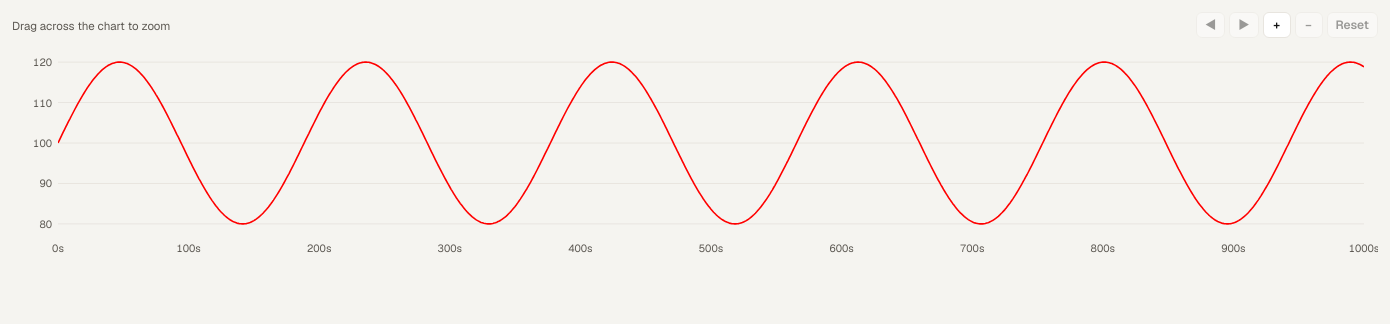
LineChart zoom and pan › zooms in, moves along, zooms out and resets with the toolbar
Expected: the button "Reset" is disabled, [1326,12,1378,38]
What coordinates should you click on to do the following:
click the button named "Zoom in"
I would click on:
 (1276, 25)
Its box is [1262,12,1290,38].
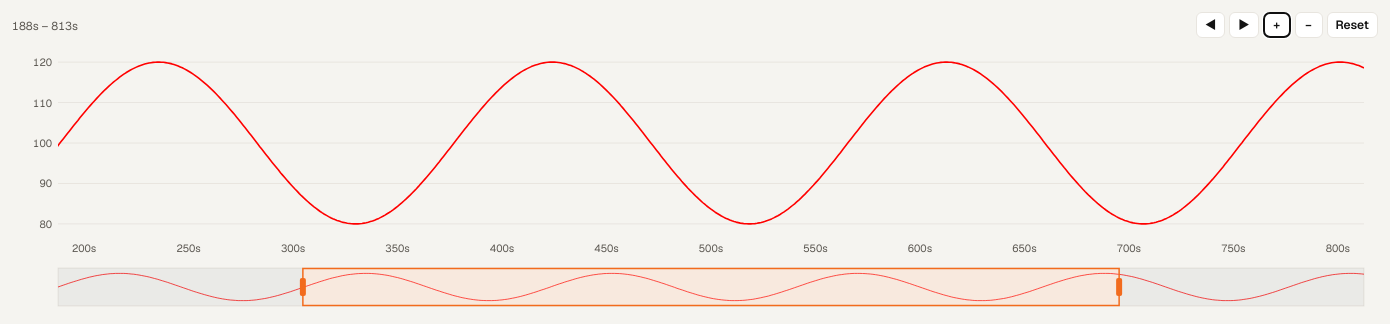
Expected: the text "188s – 813s" is shown, [12,14,78,36]
What coordinates should you click on to do the following:
click the button named "Move right"
I would click on:
 (1244, 25)
Its box is [1229,12,1259,38].
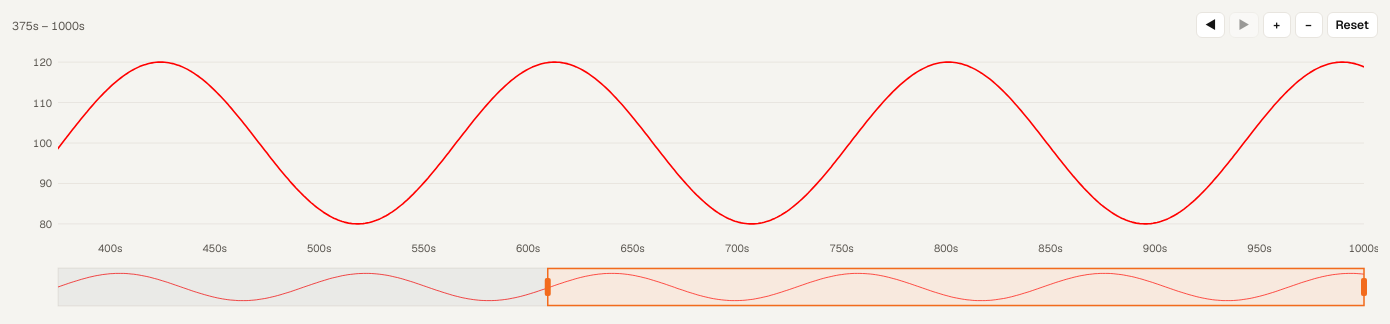
Expected: the text "375s – 1000s" is shown, [12,14,85,36]
Expected: the button named "Move right" is disabled, [1229,12,1259,38]
What coordinates should you click on to do the following:
click the button named "Move left"
I would click on:
 (1211, 25)
Its box is [1196,12,1225,38].
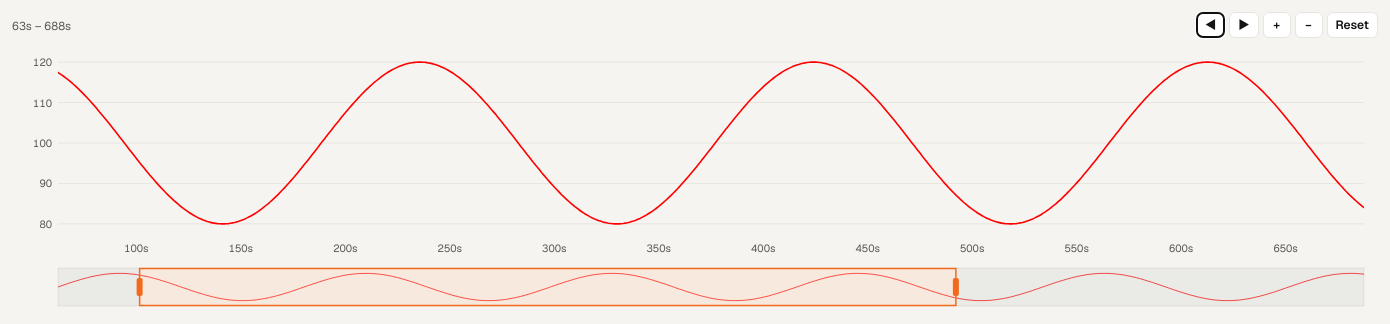
Expected: the text "63s – 688s" is shown, [12,14,71,36]
What coordinates should you click on to do the following:
click the button named "Zoom out"
I would click on:
 (1308, 25)
Its box is [1294,12,1322,38].
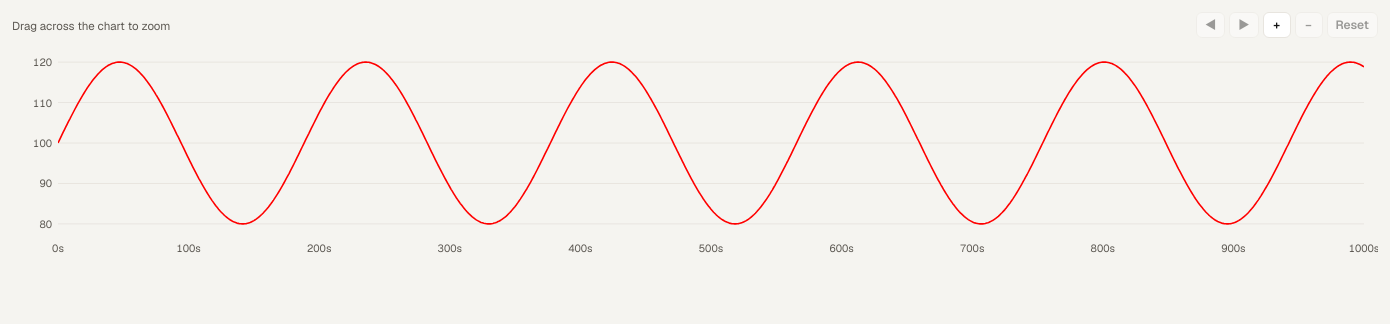
Expected: the text "Drag across the chart to zoom" is shown, [12,14,170,36]
What coordinates should you click on to do the following:
click the button named "Zoom in"
I would click on:
 (1276, 25)
Its box is [1262,12,1290,38].
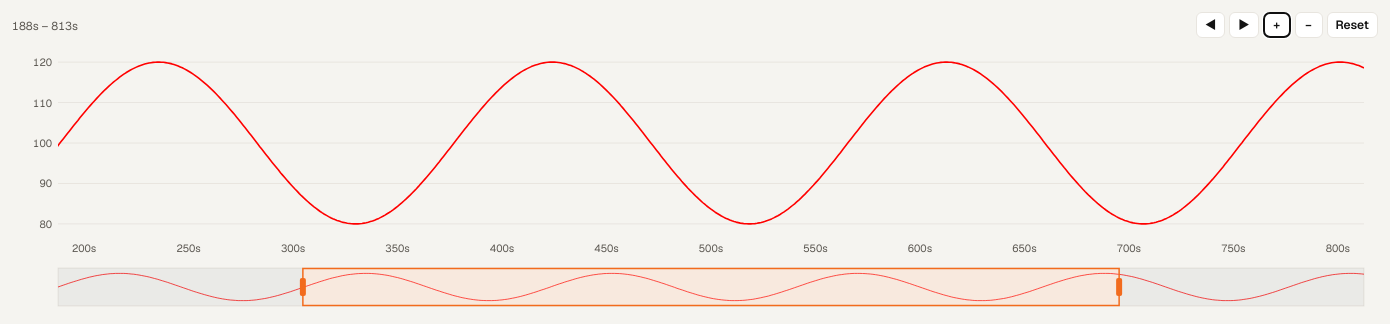
What coordinates should you click on to do the following:
click the button "Reset"
I would click on:
 (1352, 25)
Its box is [1326,12,1378,38].
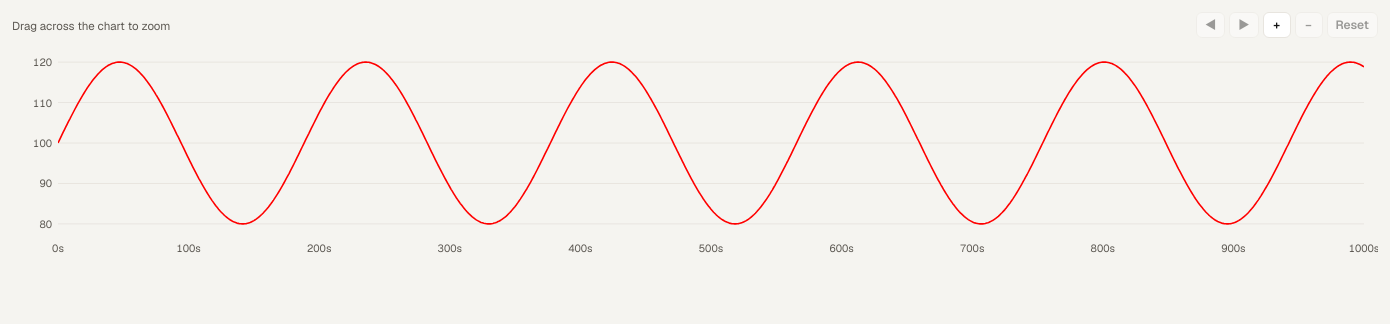
Expected: the text "Drag across the chart to zoom" is shown, [12,14,170,36]
